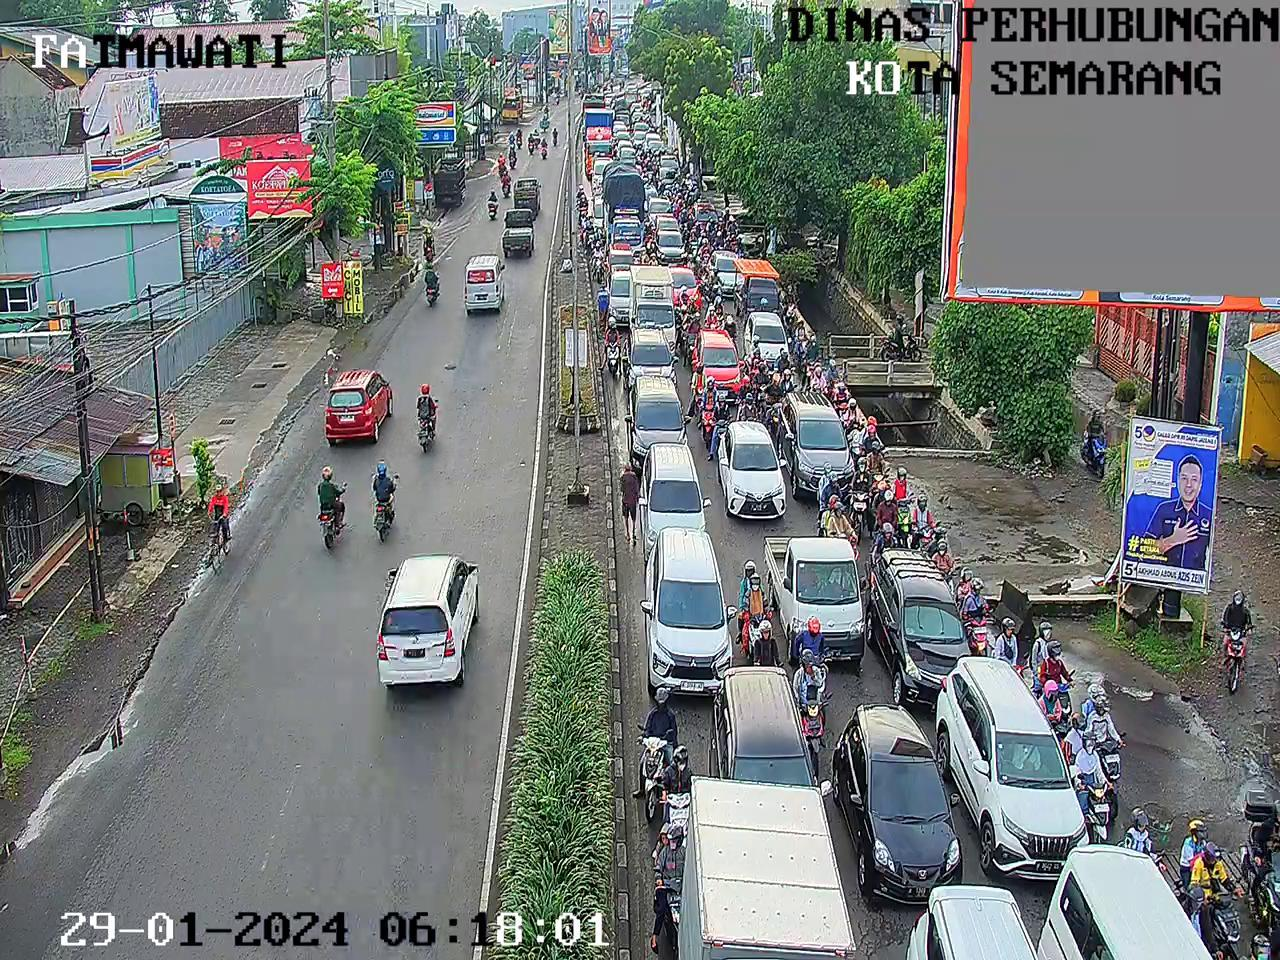bus: (606, 95, 613, 103)
car: (961, 674, 1052, 862), (861, 716, 948, 887), (643, 536, 718, 695), (885, 552, 968, 684), (729, 669, 814, 791), (1076, 859, 1164, 960), (781, 541, 848, 641), (723, 427, 777, 520), (927, 898, 1007, 960), (651, 450, 690, 541), (796, 403, 838, 487), (632, 378, 672, 456), (703, 330, 734, 391), (630, 333, 663, 378), (737, 265, 770, 309), (609, 265, 632, 325), (754, 310, 781, 359), (717, 253, 738, 291), (669, 269, 695, 293), (650, 198, 668, 221), (593, 195, 608, 222), (663, 234, 678, 260), (592, 159, 609, 182), (658, 216, 676, 235), (696, 202, 715, 221), (645, 184, 656, 212), (662, 156, 677, 172), (621, 147, 632, 165), (633, 133, 644, 149), (616, 90, 625, 108), (617, 142, 629, 155), (636, 124, 647, 136), (632, 112, 641, 126), (617, 134, 628, 145), (650, 142, 662, 152), (649, 133, 659, 145), (641, 88, 650, 99), (615, 124, 624, 132), (633, 104, 639, 111)
motorcycle: (1184, 819, 1232, 959), (1240, 773, 1280, 932), (649, 824, 691, 948), (1062, 720, 1104, 841), (1217, 578, 1256, 704), (1084, 683, 1122, 812), (660, 730, 693, 870), (737, 559, 776, 674), (1034, 629, 1074, 725), (642, 690, 673, 813), (794, 652, 827, 754), (664, 751, 693, 855), (796, 616, 834, 695), (1035, 679, 1069, 763), (1124, 803, 1160, 880), (883, 306, 921, 369), (965, 583, 993, 667), (995, 607, 1023, 686), (1082, 401, 1109, 483), (850, 455, 868, 544), (823, 495, 852, 552), (600, 316, 622, 383), (896, 470, 916, 543), (864, 413, 885, 482), (866, 445, 891, 502), (878, 490, 903, 546), (821, 462, 845, 518), (846, 403, 865, 469), (936, 541, 956, 600), (872, 530, 897, 572), (766, 375, 784, 430), (954, 565, 973, 618), (833, 384, 853, 432), (916, 497, 933, 553), (714, 389, 729, 452), (702, 374, 715, 448), (802, 335, 818, 386), (738, 390, 757, 431), (724, 316, 742, 358), (675, 297, 688, 356), (785, 283, 801, 330), (754, 364, 769, 412), (794, 320, 809, 367), (691, 365, 703, 417), (592, 242, 605, 289), (752, 294, 776, 319), (1250, 934, 1272, 960), (777, 348, 794, 377), (829, 358, 845, 390), (688, 315, 698, 362), (813, 366, 826, 402), (748, 343, 761, 377), (713, 296, 726, 328), (677, 284, 691, 310), (710, 270, 722, 298), (778, 274, 787, 311), (701, 264, 711, 301), (783, 372, 795, 398), (705, 307, 716, 335), (594, 226, 604, 255), (690, 297, 699, 327), (701, 240, 711, 268), (680, 223, 689, 250), (706, 216, 717, 237), (715, 232, 725, 254), (578, 208, 587, 232), (687, 179, 696, 204), (730, 220, 737, 250), (685, 253, 694, 276), (645, 223, 653, 248), (690, 232, 698, 257), (585, 223, 593, 247), (649, 254, 661, 270), (632, 245, 640, 267), (672, 196, 680, 218), (577, 184, 584, 209), (645, 162, 653, 184), (682, 183, 689, 207), (579, 194, 586, 217), (585, 212, 593, 232), (612, 148, 621, 165), (660, 125, 667, 146), (660, 183, 669, 199), (673, 173, 681, 192), (724, 208, 731, 227), (652, 155, 658, 177), (696, 255, 702, 276), (636, 157, 643, 174), (636, 144, 643, 160), (644, 109, 651, 125), (681, 210, 687, 228), (658, 145, 664, 163), (689, 207, 694, 228), (649, 120, 656, 135), (640, 148, 646, 164), (649, 243, 657, 255), (646, 153, 651, 169), (648, 99, 653, 114), (663, 144, 668, 158), (642, 98, 647, 112)
truck: (700, 792, 828, 960), (610, 179, 646, 251), (635, 270, 669, 335), (587, 125, 608, 167), (581, 94, 597, 130), (617, 107, 627, 120), (628, 89, 635, 101)
